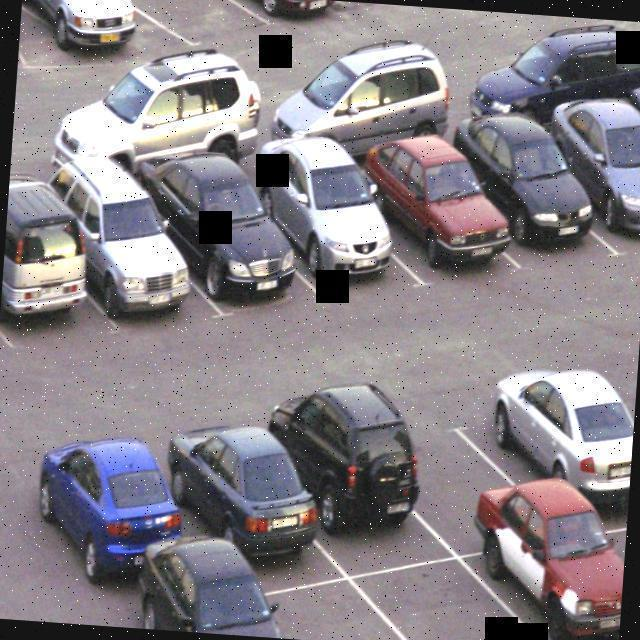space-empty: (369, 376, 518, 560), (394, 545, 523, 640), (263, 552, 398, 640), (148, 0, 252, 46)
space-occupied: (251, 388, 430, 574), (151, 410, 324, 595), (25, 433, 204, 608), (488, 365, 637, 535), (63, 195, 204, 350), (161, 184, 309, 322), (488, 500, 627, 640), (261, 179, 409, 310), (474, 152, 616, 281), (0, 207, 100, 364), (375, 173, 497, 291), (133, 554, 277, 637), (568, 139, 640, 264), (40, 0, 144, 61)
